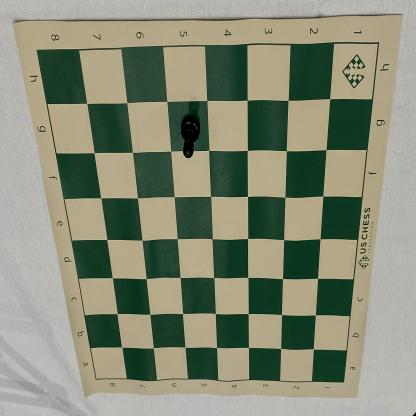black-pawn: (180, 116, 200, 159)
